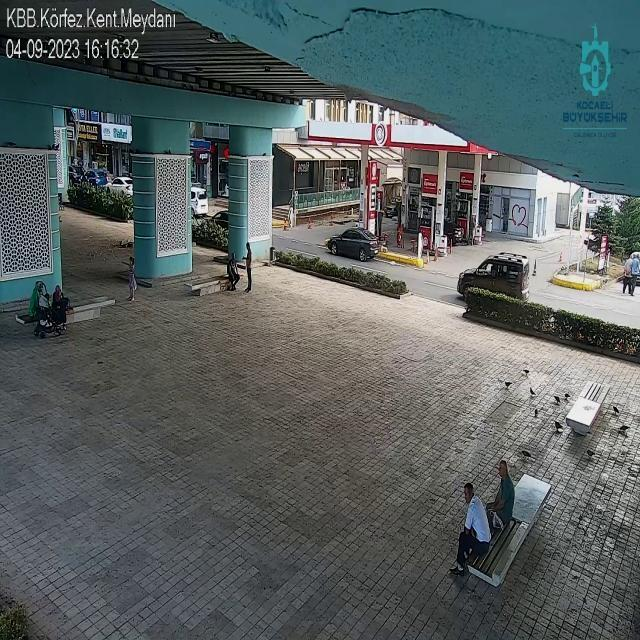Car: (468, 252, 518, 310), (331, 227, 373, 268), (192, 188, 208, 216), (108, 179, 132, 191), (207, 212, 229, 225), (70, 166, 84, 184), (85, 170, 104, 183)
